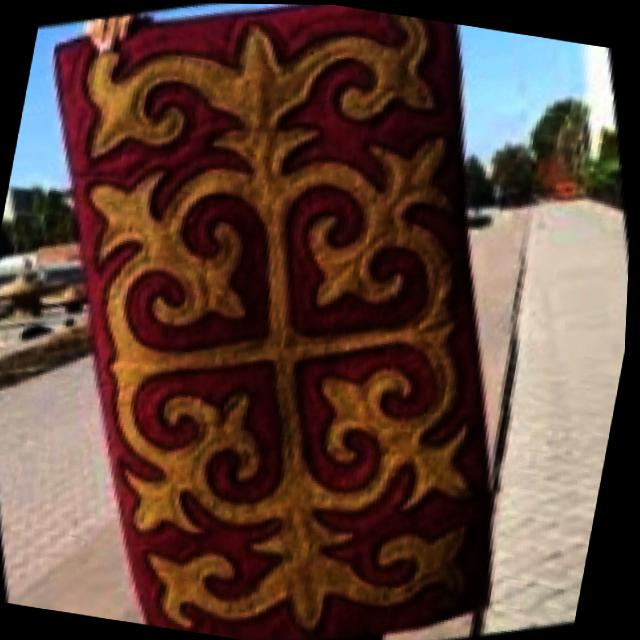Unity: (64, 126, 493, 536)
